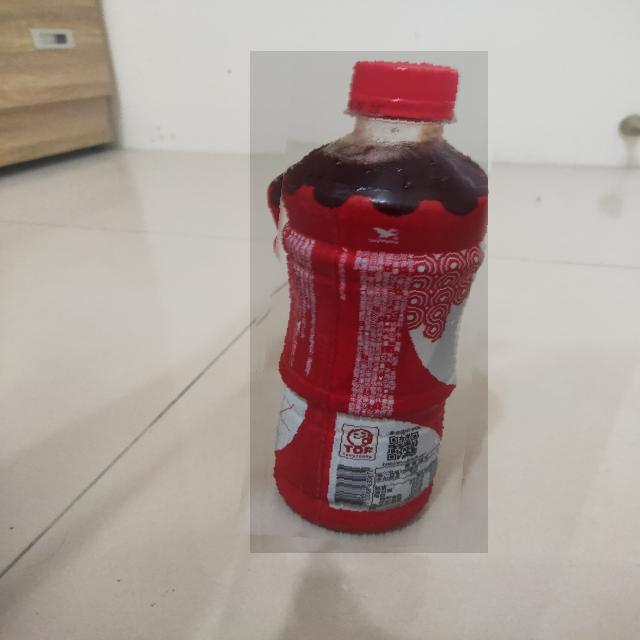ChaLiWong_BlackTea: (251, 51, 488, 553)
